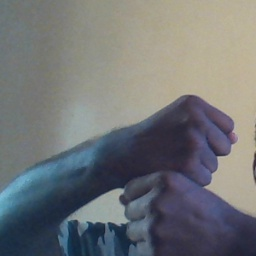G: (119, 96, 240, 256)
